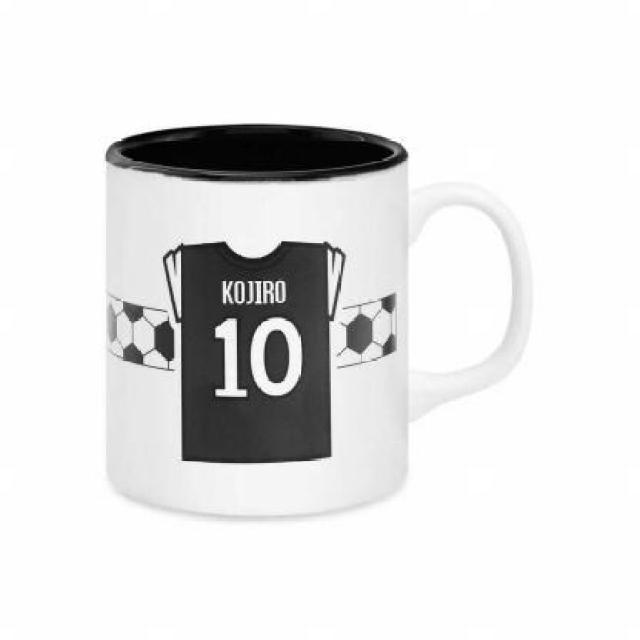taza: (106, 123, 534, 523)
